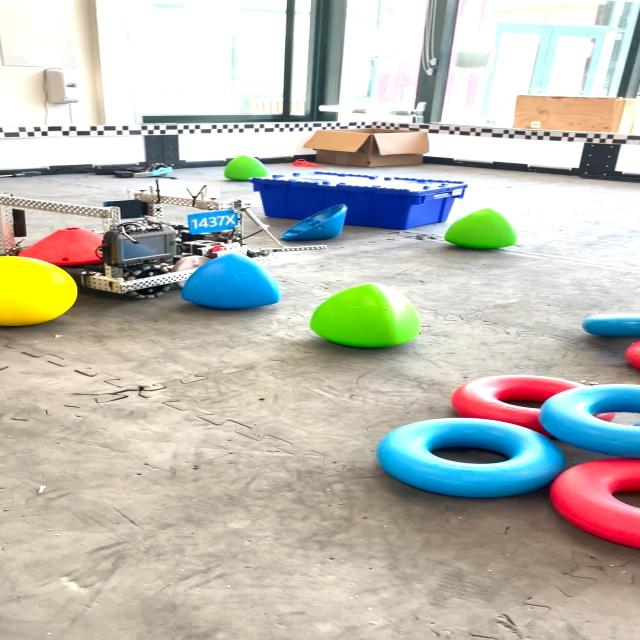Blue-Ring: (378, 418, 564, 498), (540, 384, 639, 458), (582, 314, 639, 337)
Red-Ring: (451, 375, 584, 438), (551, 459, 639, 548)
